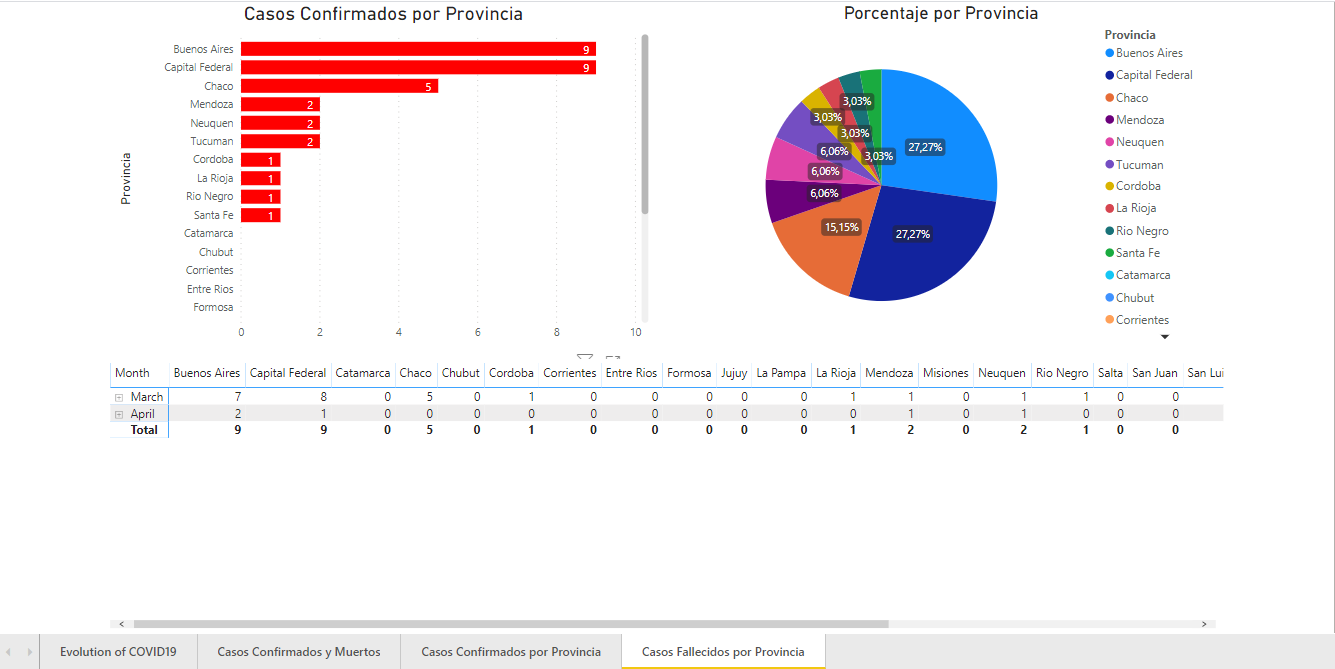

Layout of this report page (visuals, bound fields, positions):
{"tool":"powerbi","page":{"name":"Casos Fallecidos por Provincia","canvas":[1280,720],"ordinal":3},"visuals":[{"type":"barChart","title":"Casos Confirmados por Provincia","fields":{"Y":["Sum(COVID19_Deaths.Deaths)"],"Category":["COVID19_Deaths.Provincia"]},"box":[9.6,0,615.2,395],"z":0},{"type":"pivotTable","fields":{"Columns":["COVID19_Deaths.Provincia"],"Values":["Sum(COVID19_Deaths.Deaths)"],"Rows":["Calendario.Date.Variation.Date Hierarchy.Month","Calendario.Date.Variation.Date Hierarchy.Day"]},"box":[0,407.4,1280,312.4],"z":1000},{"type":"pieChart","title":"Porcentaje por Provincia","fields":{"Category":["COVID19_Deaths.Provincia"],"Y":["Sum(COVID19_Deaths.Deaths)"]},"box":[624.9,0,655.1,395],"z":2000}]}

Visuals, with their boxes on the page's 1280x720 design canvas (x1, y1, x2, y2). These are canvas units, not pixel positions in the 1335x669 screenshot, which may show the page scaled, cropped or inside an application window:
"Casos Confirmados por Provincia" barChart: region(10, 0, 625, 395)
pivotTable - COVID19_Deaths.Provincia x Sum(COVID19_Deaths.Deaths): region(0, 407, 1280, 720)
"Porcentaje por Provincia" pieChart: region(625, 0, 1280, 395)
